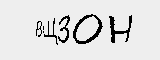В: (33, 20, 44, 39)
З: (59, 14, 72, 46)
Н: (110, 12, 132, 44)
О: (72, 13, 103, 44)
Щ: (40, 17, 59, 43)
